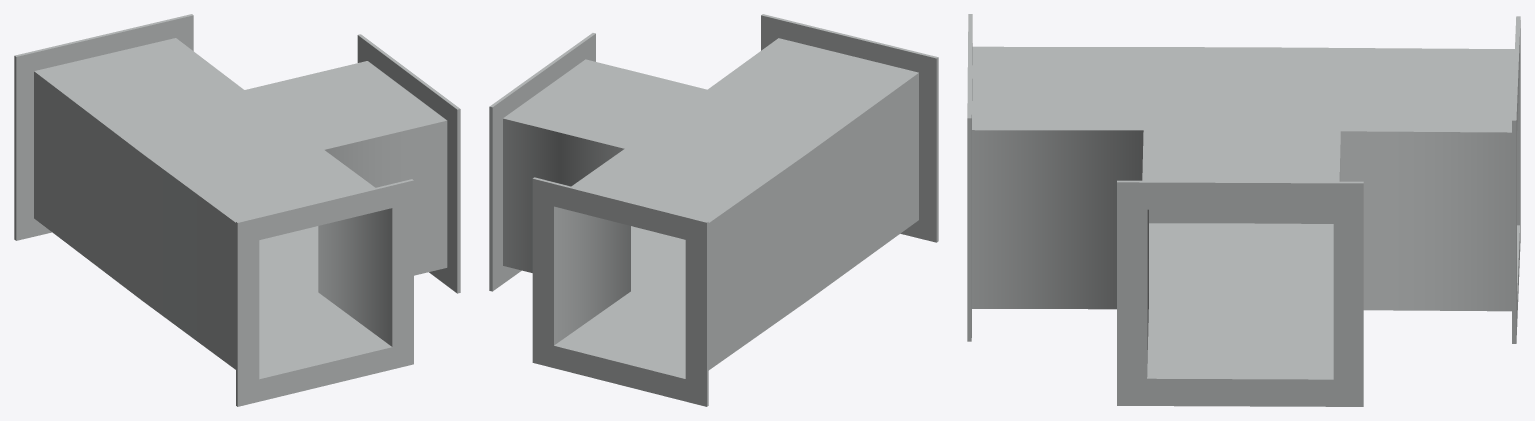
The model's file is Vent_03.FBX.
The picture shows the model from 3 angles, left to right: view 1: azimuth 30°, elevation 25°; view 2: azimuth 150°, elevation 25°; view 3: azimuth 270°, elevation 25°; orthographic projection. The views are drawn at different scales.
Visible parts, largest first — view 1: Vent_03; view 2: Vent_03; view 3: Vent_03.
Part boxes in pixels (x1,y1,x2,y2): Vent_03: [14, 14, 460, 406]; Vent_03: [489, 14, 938, 406]; Vent_03: [967, 14, 1520, 406].
Bounding box in the file's own units: 81.31 × 50 × 112.
Materials: 1 (1 with a texture image).
